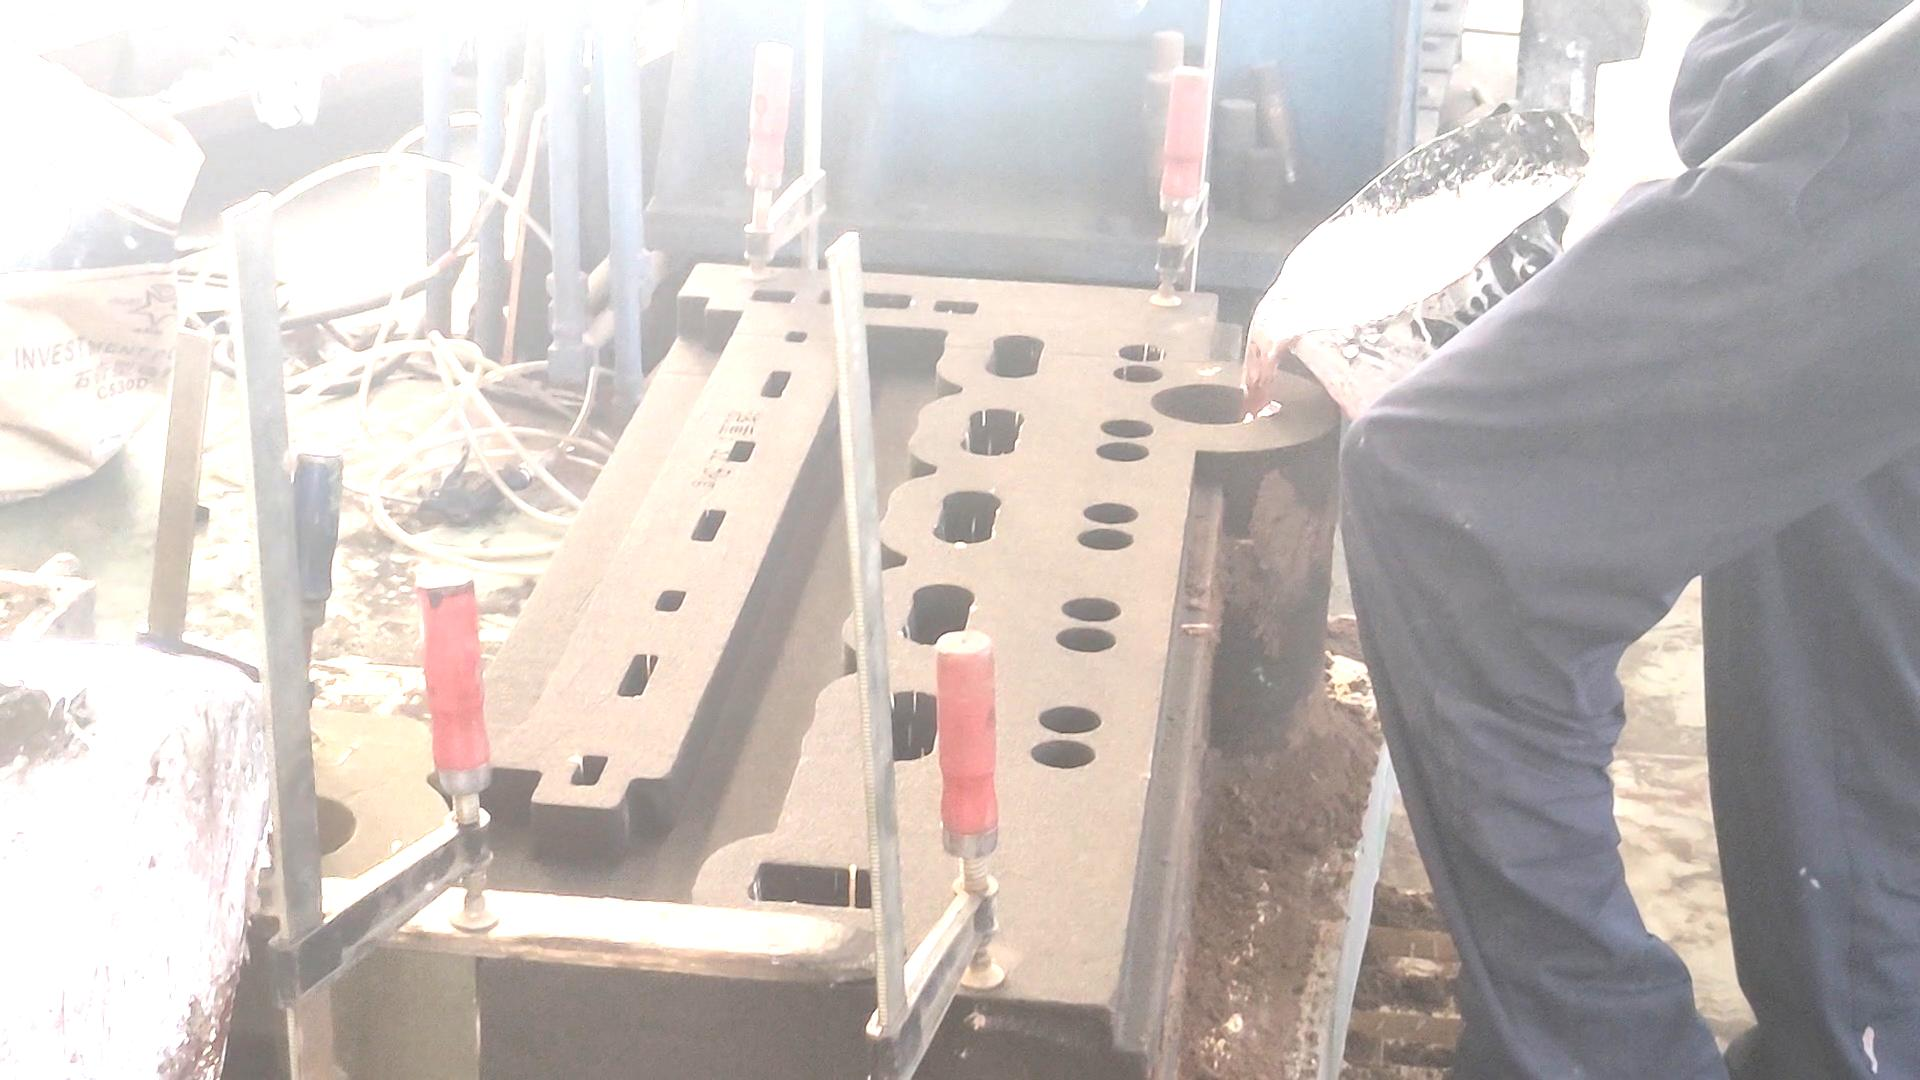pouring hole: (244, 786, 355, 860), (1153, 382, 1269, 426)
